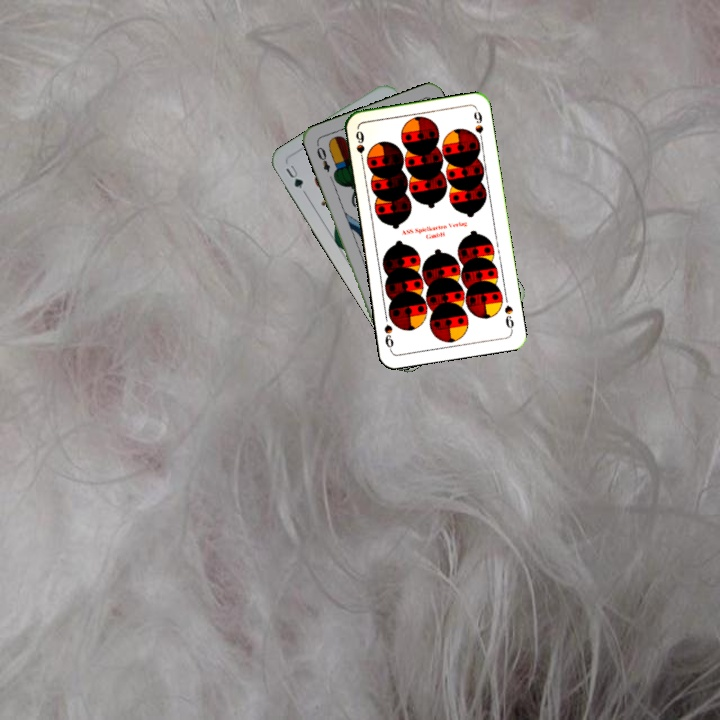EO: (312, 140, 333, 175)
GU: (281, 161, 306, 192)
S9: (352, 127, 367, 166), (501, 301, 517, 334)
